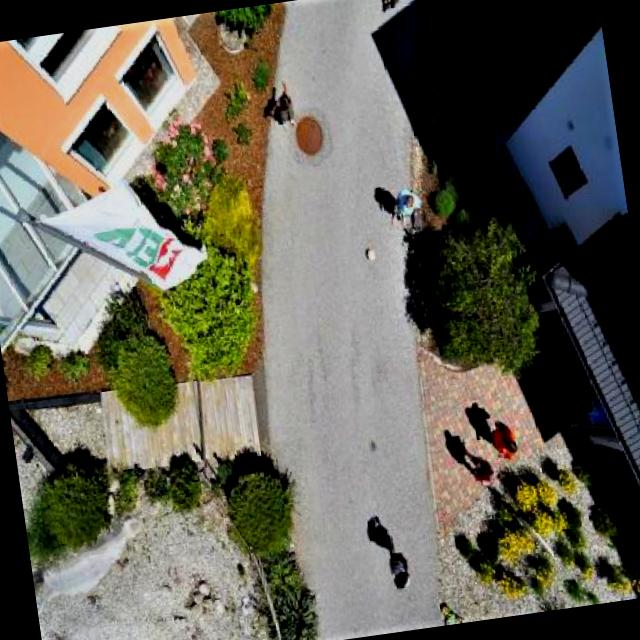Person: (386, 180, 430, 236), (268, 71, 302, 143), (382, 538, 420, 594), (488, 416, 524, 466), (466, 452, 504, 488)
